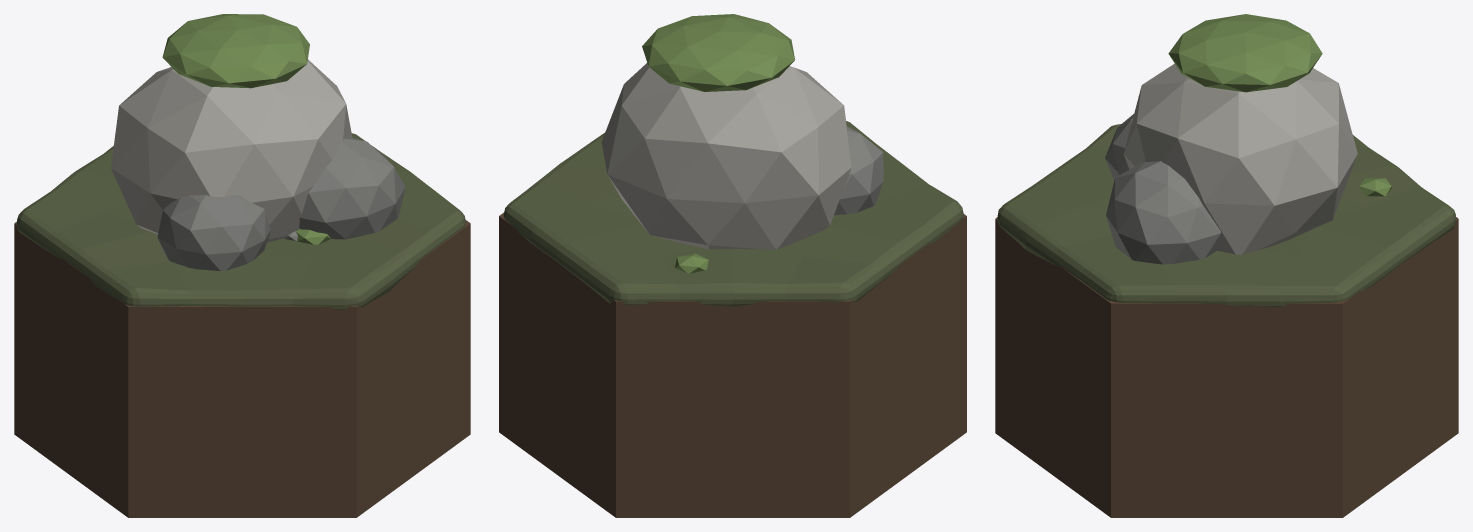
The model's file is hex_stone.glb.
3 renders of one model, left to right at view 1: azimuth 30°, elevation 25°; view 2: azimuth 150°, elevation 25°; view 3: azimuth 270°, elevation 25°, orthographic. The views are drawn at different scales.
Visible parts, largest first — view 1: hex_stone; view 2: hex_stone; view 3: hex_stone.
Part boxes in pixels (box(x1,y1,x2,y2)): hex_stone: box(14, 14, 470, 517); hex_stone: box(499, 14, 966, 517); hex_stone: box(995, 14, 1458, 517).
Bounding box in the file's own units: 1.7 × 1.88 × 1.96.
